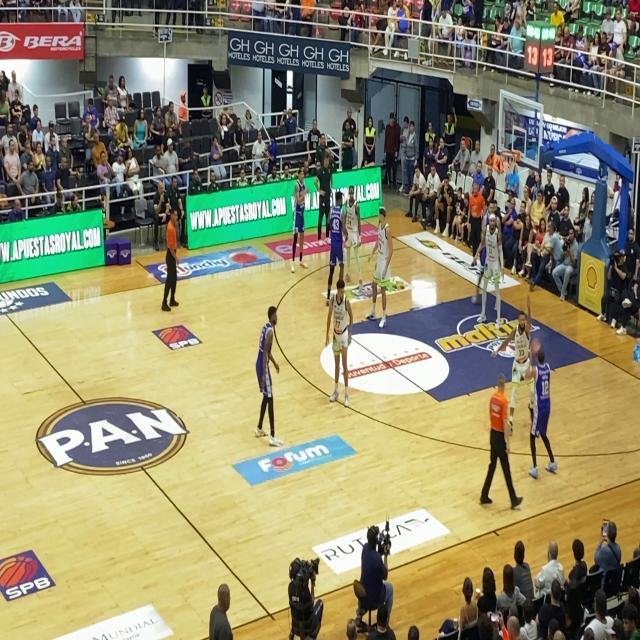referee: (478, 374, 520, 526), (154, 192, 185, 319)
team1: (371, 205, 398, 317)
team2: (524, 337, 560, 478), (254, 294, 286, 442), (323, 188, 346, 290)
ubasket: (500, 148, 518, 178)
